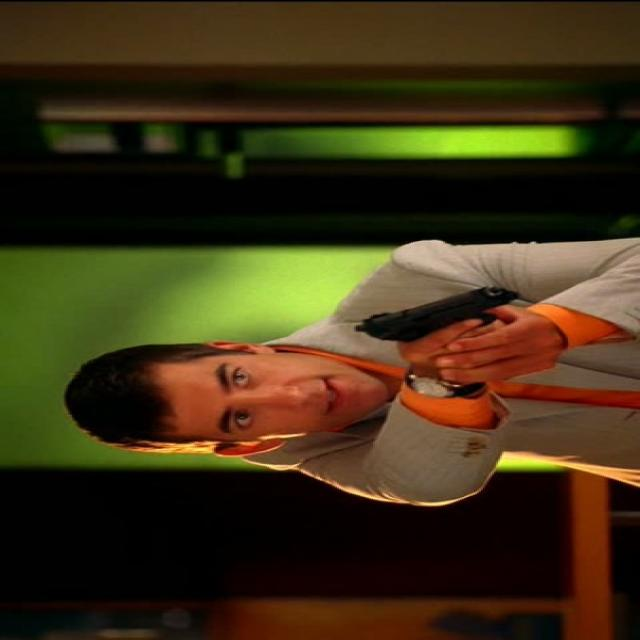weapons: (338, 278, 540, 370)
